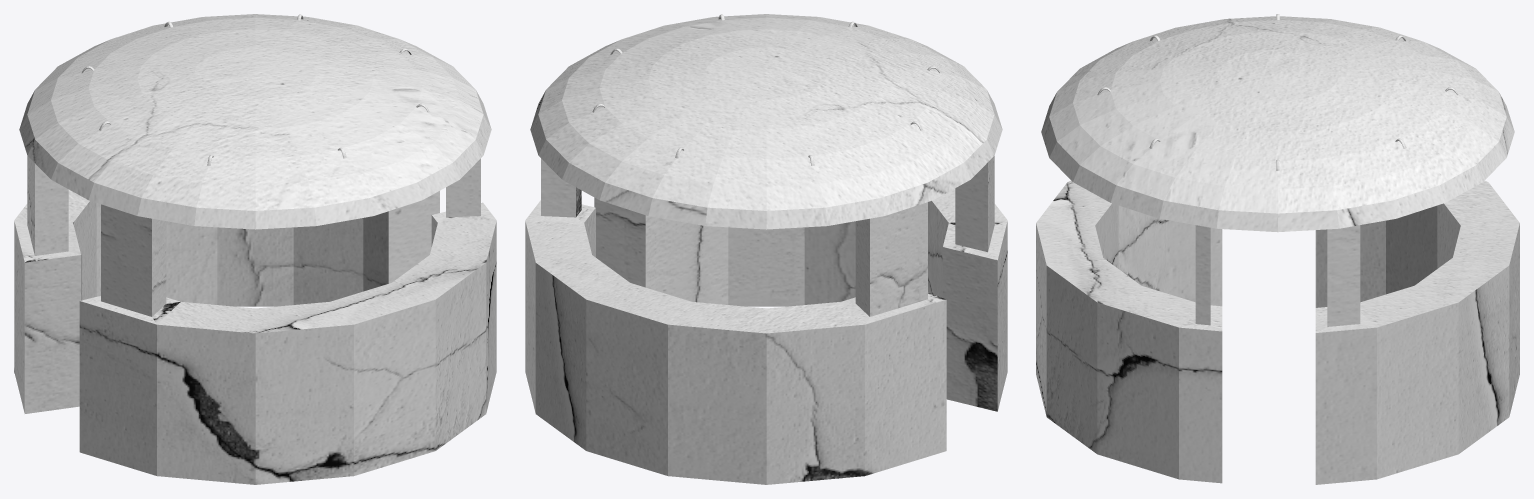
The model's file is model_TowerOrcWarrior.fbx.
The picture shows the model from 3 angles, left to right: view 1: azimuth 30°, elevation 25°; view 2: azimuth 150°, elevation 25°; view 3: azimuth 270°, elevation 25°; orthographic projection.
Visible parts, largest first — view 1: bunker; view 2: bunker; view 3: bunker.
Boxes of the visible parts, bbox=[...] form: bunker: bbox=[14, 14, 496, 484]; bunker: bbox=[525, 14, 1007, 484]; bunker: bbox=[1036, 14, 1519, 484].
Size of the model in its own units: 525 by 535 by 381.
